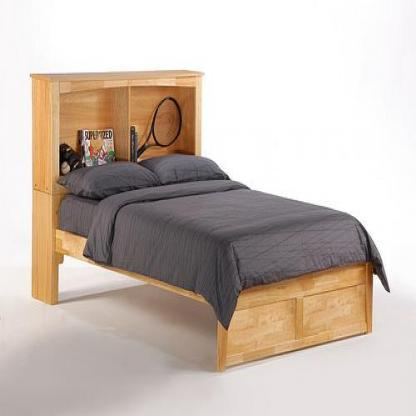Bed: (23, 59, 390, 375)
